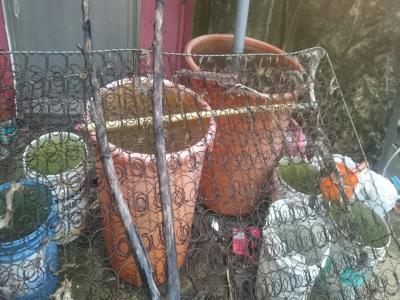bucket: (81, 71, 214, 289), (177, 30, 311, 222), (20, 129, 92, 247), (253, 198, 332, 300), (1, 178, 67, 292)
